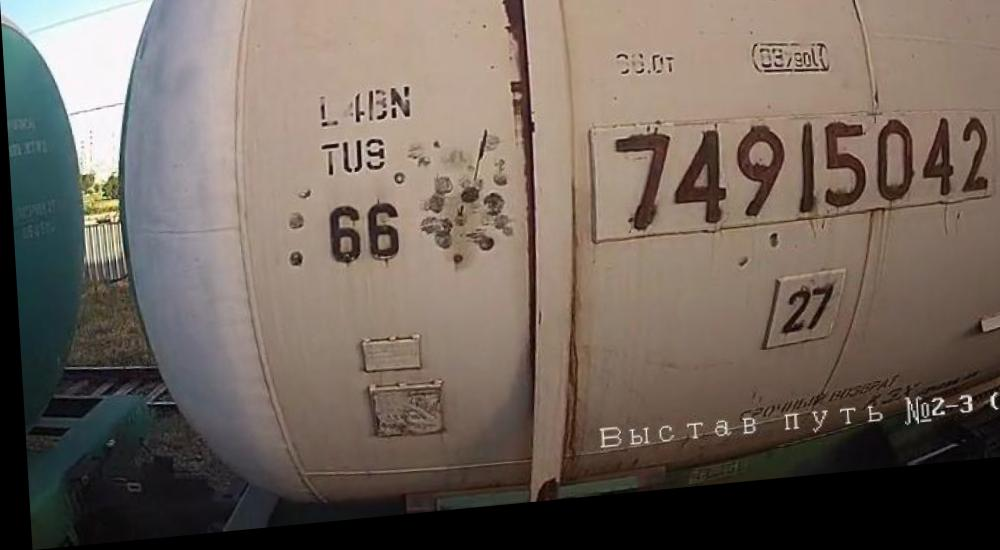Wagon-number: (604, 111, 993, 250)
